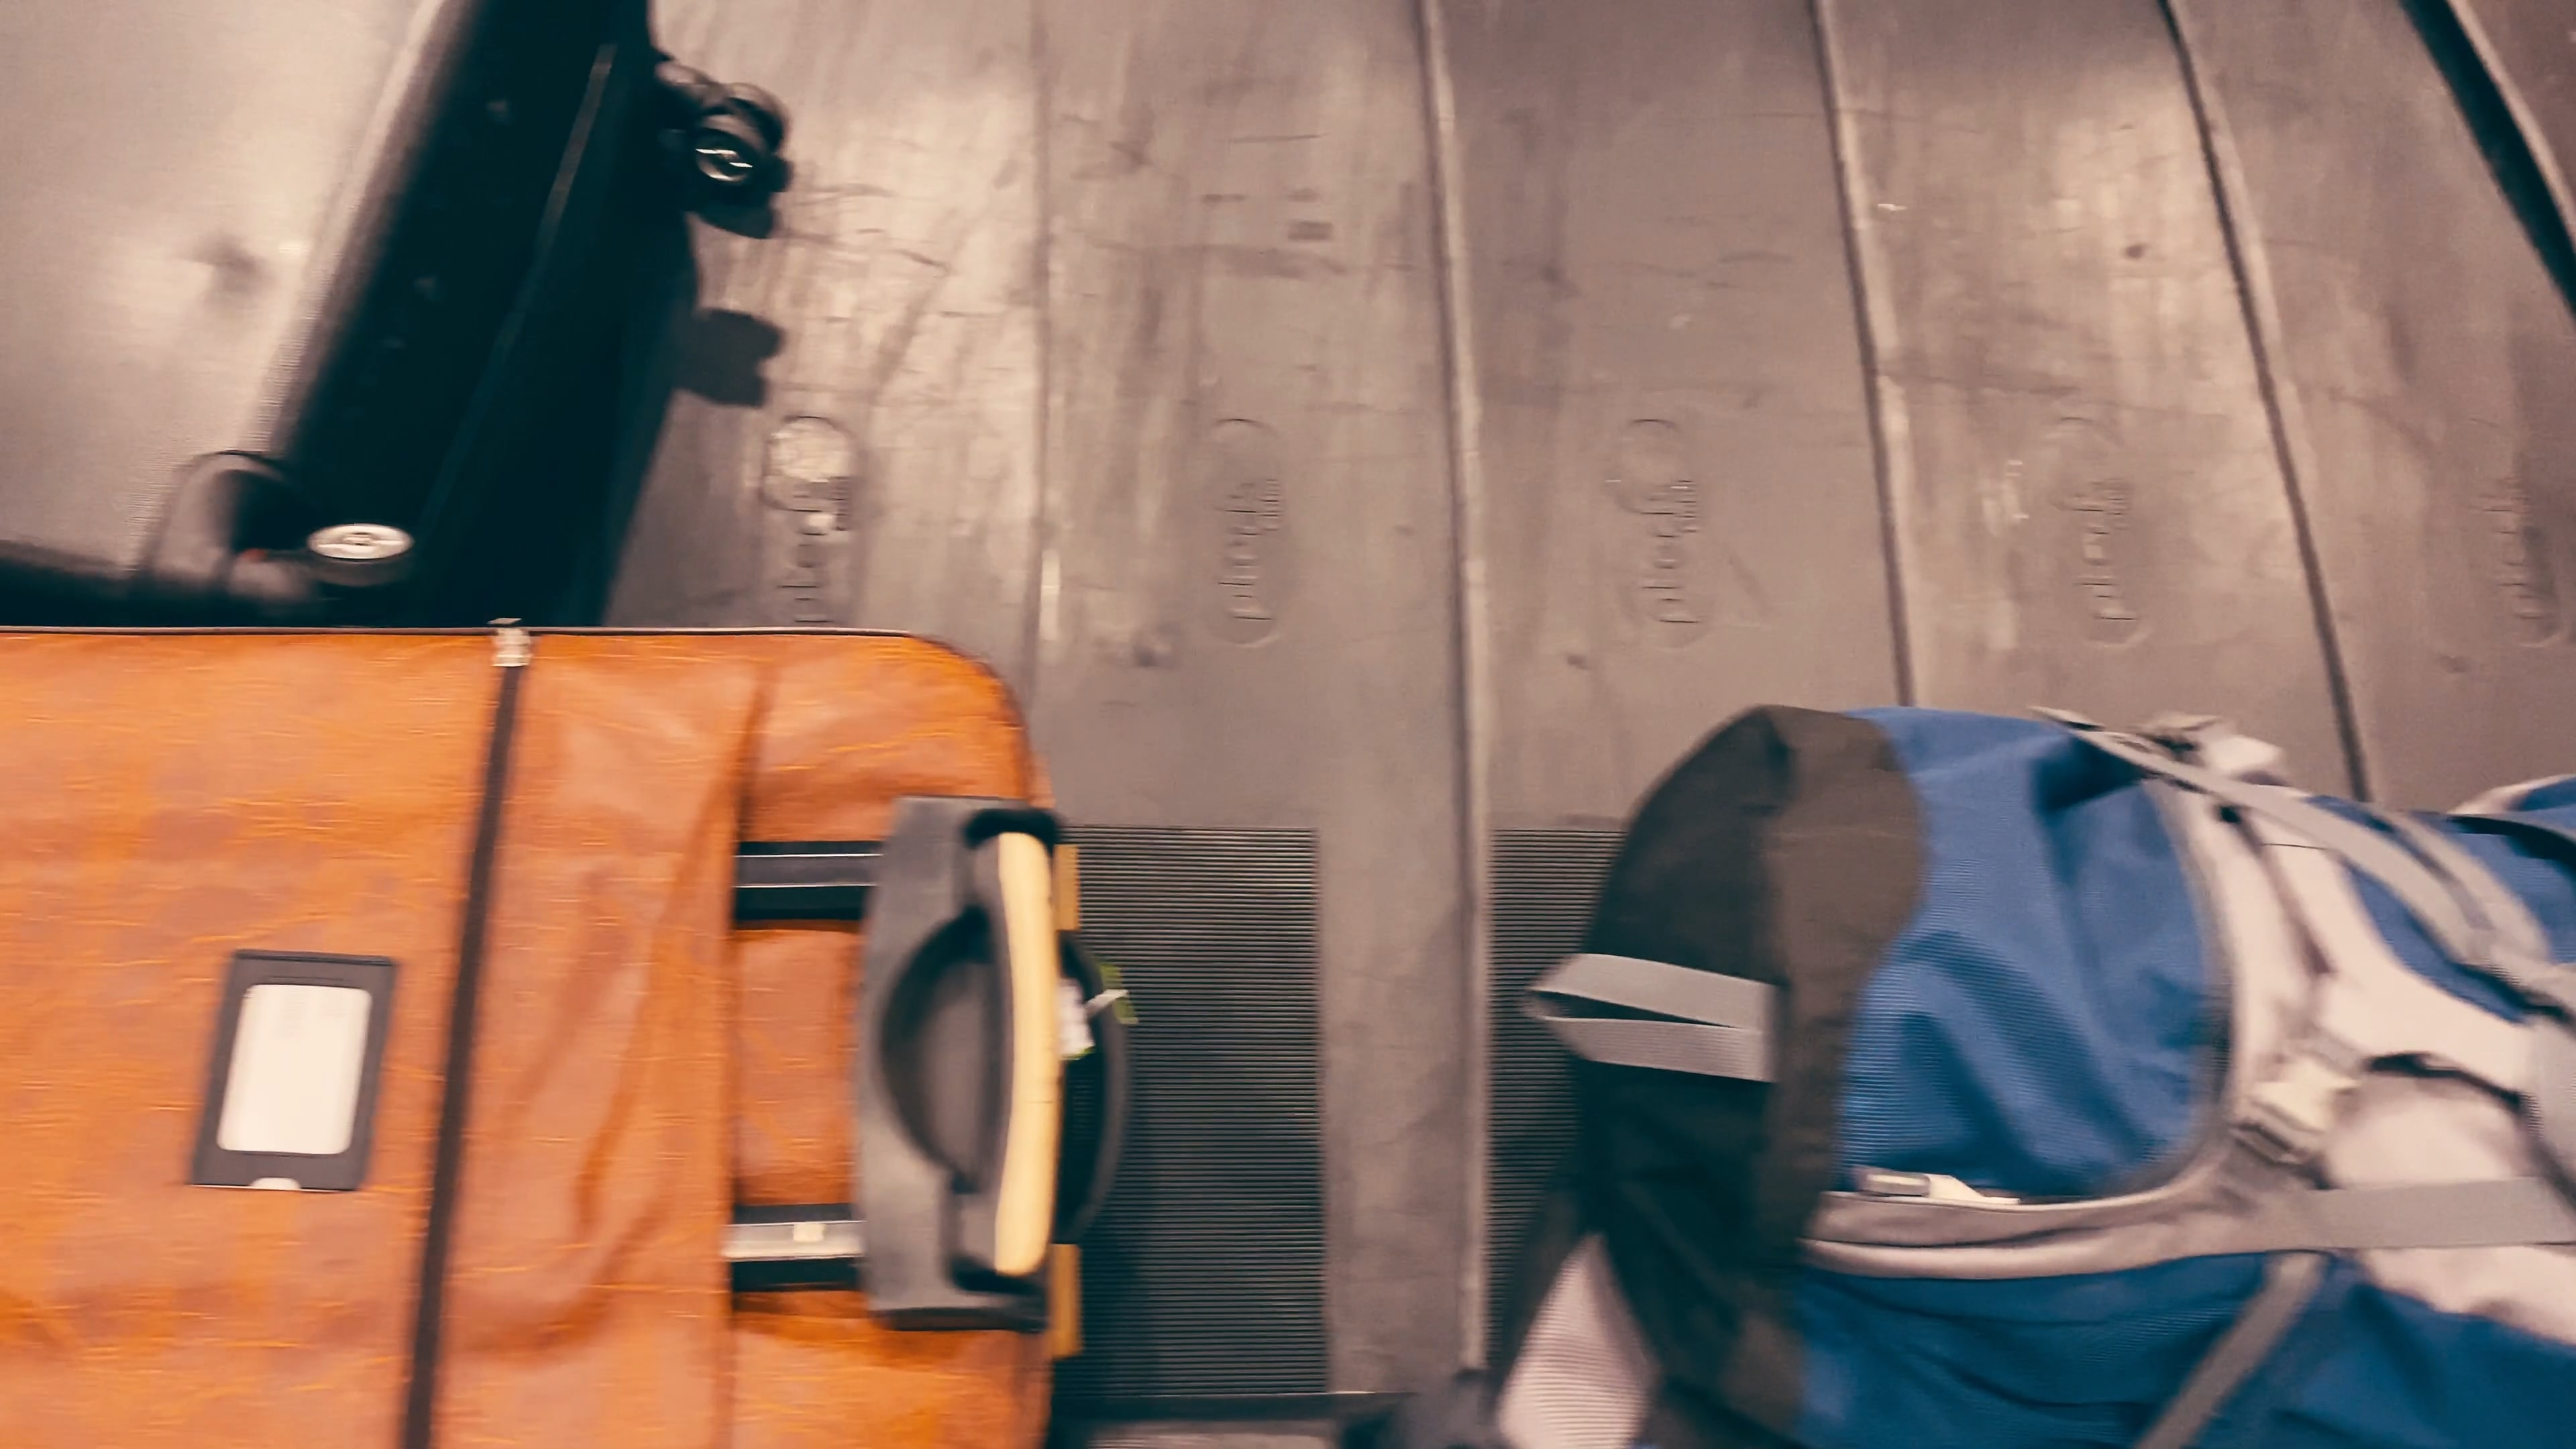baggage: (11, 577, 1150, 1449), (1589, 686, 2576, 1449), (12, 9, 830, 660)
